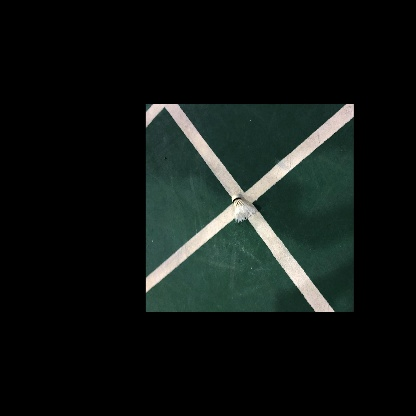ball_single: (231, 195, 255, 223)
